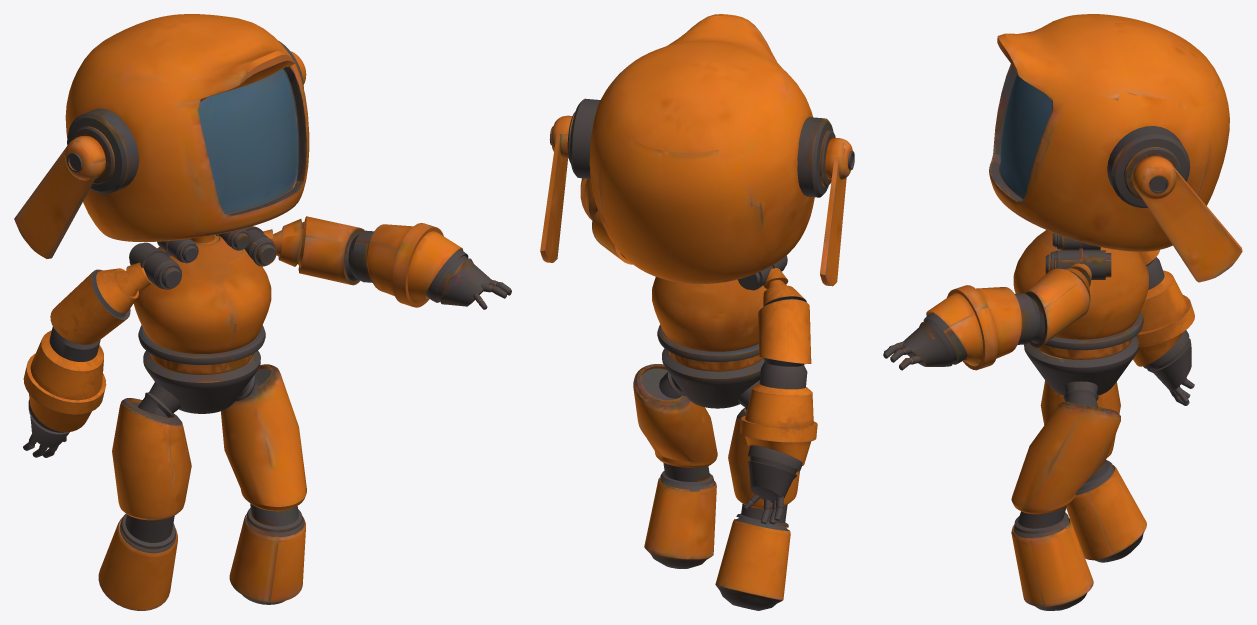
The model's file is lovedeath__robots.glb.
3 views of the same model, side by side, from view 1: azimuth 30°, elevation 25°; view 2: azimuth 150°, elevation 25°; view 3: azimuth 270°, elevation 25° (orthographic). The views are drawn at different scales.
Parts seen in each view (by area): view 1: defaultMaterial; view 2: defaultMaterial; view 3: defaultMaterial.
Boxes of the visible parts, box(x1,y1,x2,y2) form: defaultMaterial: box(14, 14, 511, 610); defaultMaterial: box(540, 14, 854, 610); defaultMaterial: box(883, 14, 1242, 610).
Bounding box in the file's own units: 634 × 933 × 547.
1 material, 1 textured.
